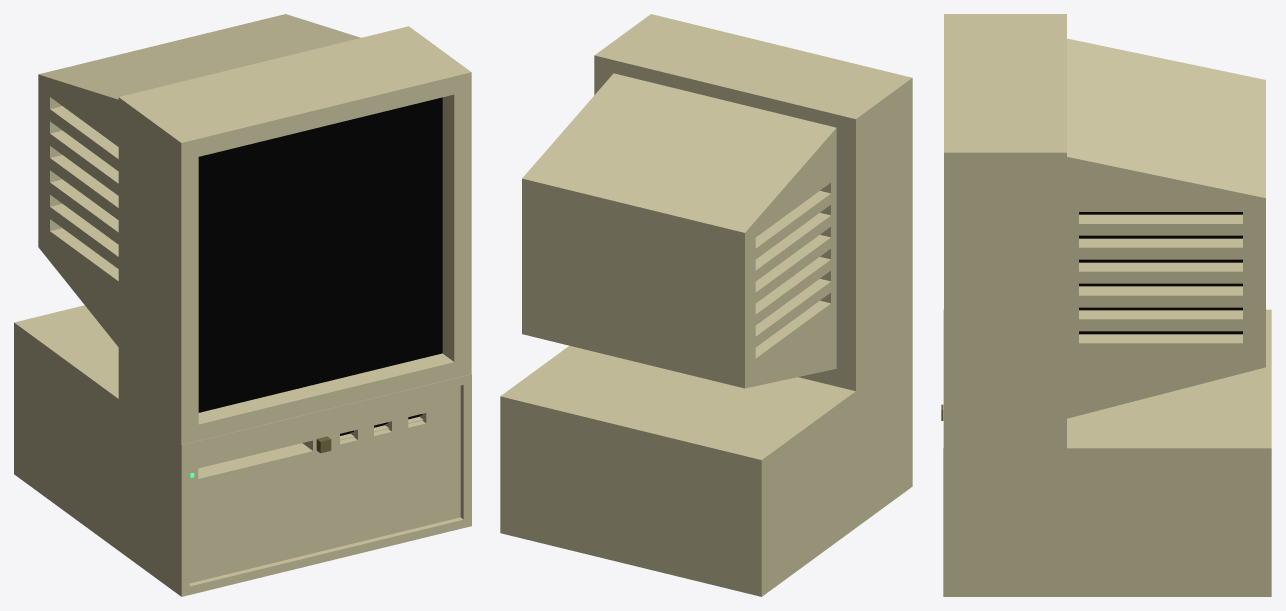
File: computer.gltf
3 renders of one model, left to right at view 1: azimuth 30°, elevation 25°; view 2: azimuth 150°, elevation 25°; view 3: azimuth 270°, elevation 25°, orthographic. The views are drawn at different scales.
Visible parts, largest first — view 1: SM_MERGED_BP_Terminal_2; view 2: SM_MERGED_BP_Terminal_2; view 3: SM_MERGED_BP_Terminal_2.
Boxes of the visible parts, x1=… form: SM_MERGED_BP_Terminal_2: x1=14, y1=14, x2=471, y2=596; SM_MERGED_BP_Terminal_2: x1=500, y1=14, x2=912, y2=596; SM_MERGED_BP_Terminal_2: x1=941, y1=14, x2=1271, y2=596.
Size of the model in its own units: 4 by 5.98 by 4.02.
